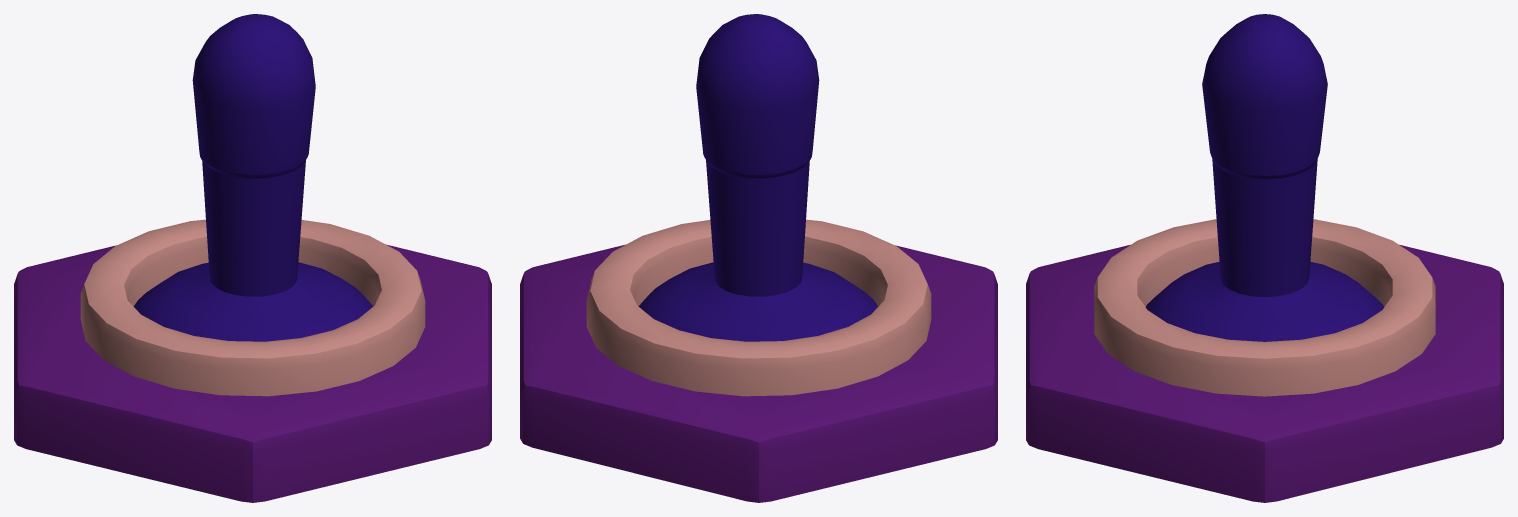
Rendered from Switch.fbx.
3 renders of one model, left to right at view 1: azimuth 30°, elevation 25°; view 2: azimuth 150°, elevation 25°; view 3: azimuth 270°, elevation 25°, orthographic.
Visible parts, largest first — view 1: Scenery_SwitchBase, Scenery_SwitchToggle, Scenery_SwitchMiddle; view 2: Scenery_SwitchBase, Scenery_SwitchToggle, Scenery_SwitchMiddle; view 3: Scenery_SwitchBase, Scenery_SwitchToggle, Scenery_SwitchMiddle.
Part boxes in pixels (x1=…): Scenery_SwitchBase: x1=14, y1=244, x2=491, y2=502; Scenery_SwitchToggle: x1=133, y1=14, x2=373, y2=341; Scenery_SwitchMiddle: x1=80, y1=219, x2=425, y2=396; Scenery_SwitchBase: x1=520, y1=244, x2=997, y2=502; Scenery_SwitchToggle: x1=638, y1=14, x2=878, y2=341; Scenery_SwitchMiddle: x1=586, y1=219, x2=931, y2=396; Scenery_SwitchBase: x1=1026, y1=244, x2=1503, y2=502; Scenery_SwitchToggle: x1=1145, y1=14, x2=1384, y2=341; Scenery_SwitchMiddle: x1=1094, y1=219, x2=1435, y2=396.
Size of the model in its own units: 6.22 by 4.64 by 5.46.
